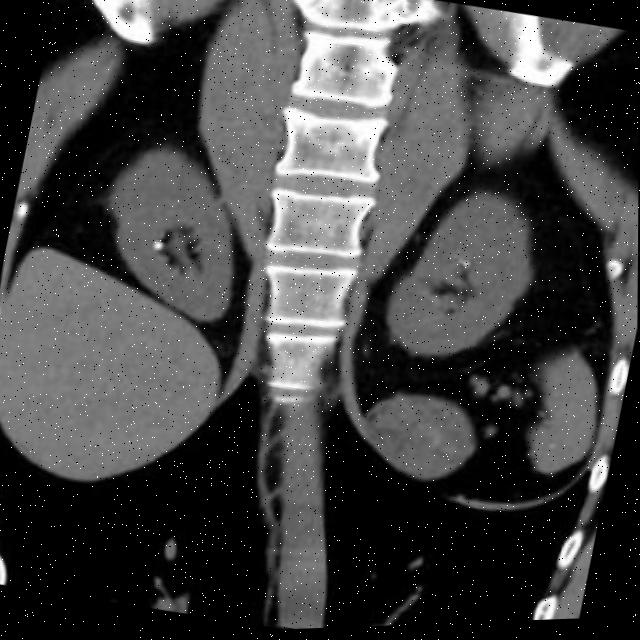Tas_Var: (149, 237, 166, 256), (462, 262, 472, 274), (456, 260, 463, 271)
